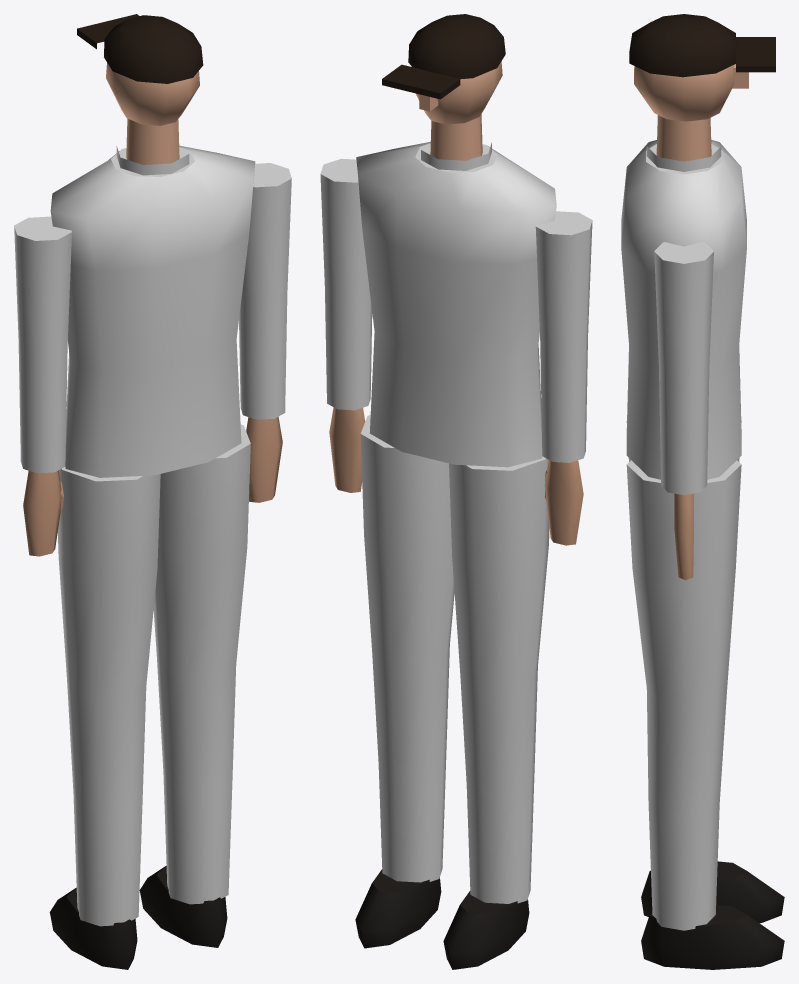
The model's file is camp_person.glb.
3 views of the same model, side by side, from view 1: azimuth 30°, elevation 25°; view 2: azimuth 150°, elevation 25°; view 3: azimuth 270°, elevation 25° (orthographic). The views are drawn at different scales.
Visible parts, largest first — view 1: Legs, Torso, ArmL, ArmR, Head; view 2: Legs, Torso, ArmL, ArmR, Head; view 3: Legs, Torso, ArmR, Head.
Part boxes in pixels (box(x1,y1,x2,y2)): Legs: box(49, 424, 250, 969); Torso: box(50, 145, 255, 477); ArmL: box(14, 216, 71, 556); ArmR: box(239, 163, 291, 502); Head: box(77, 14, 203, 164); Legs: box(355, 415, 549, 969); Torso: box(356, 142, 556, 467); ArmL: box(535, 211, 592, 545); ArmR: box(320, 158, 372, 492); Head: box(382, 14, 505, 160); Legs: box(626, 421, 784, 969); Torso: box(621, 140, 746, 479); ArmR: box(654, 242, 713, 580); Head: box(629, 14, 775, 161).
Size of the model in its own units: 0.544 by 1.76 by 0.2844.
